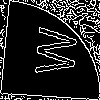W: (24, 24, 79, 77)
